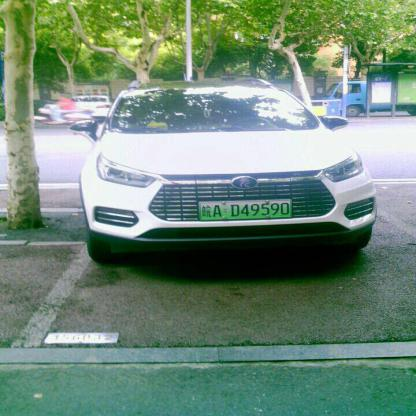lp: (199, 200, 291, 220)
